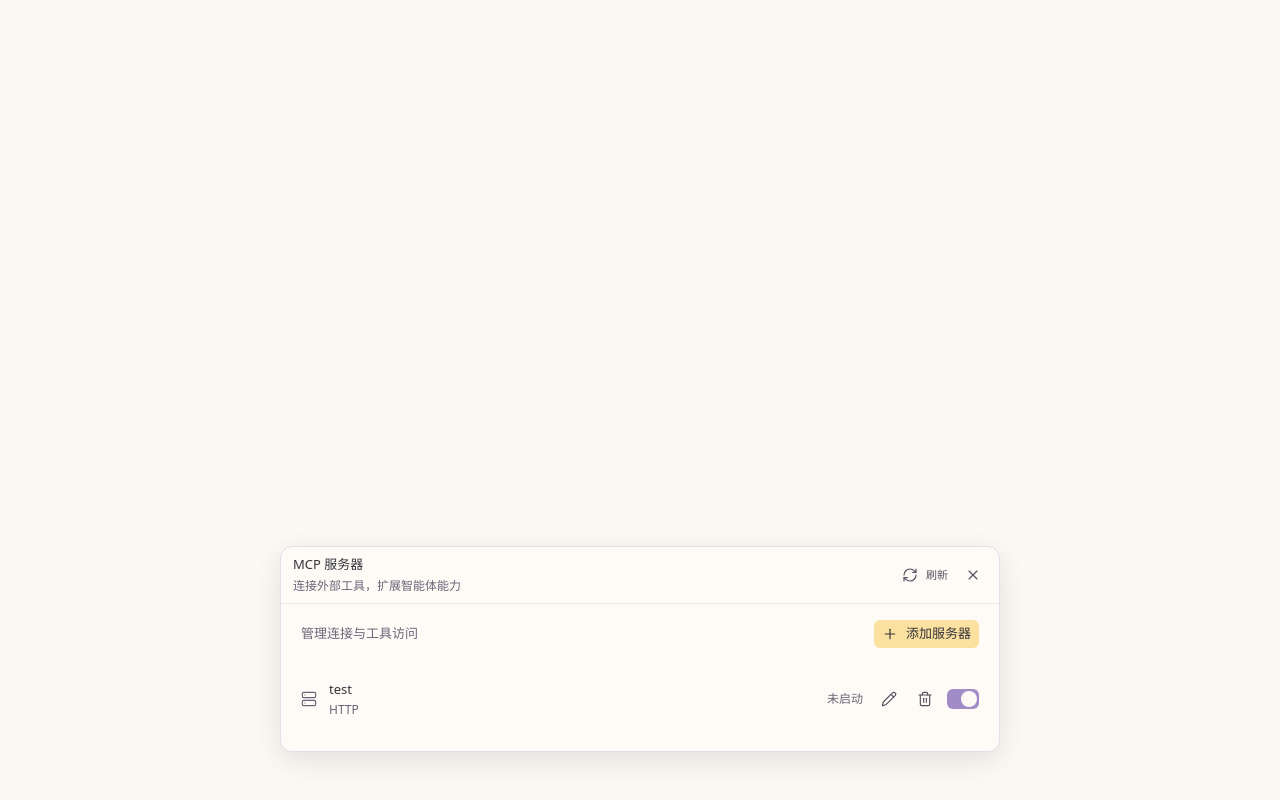
Test: MCP mutation boundaries › clears credentials even if the subsequent reload fails
Step 1. Click the button named "删除 test" → (925, 699), box 911,685 -> 939,713
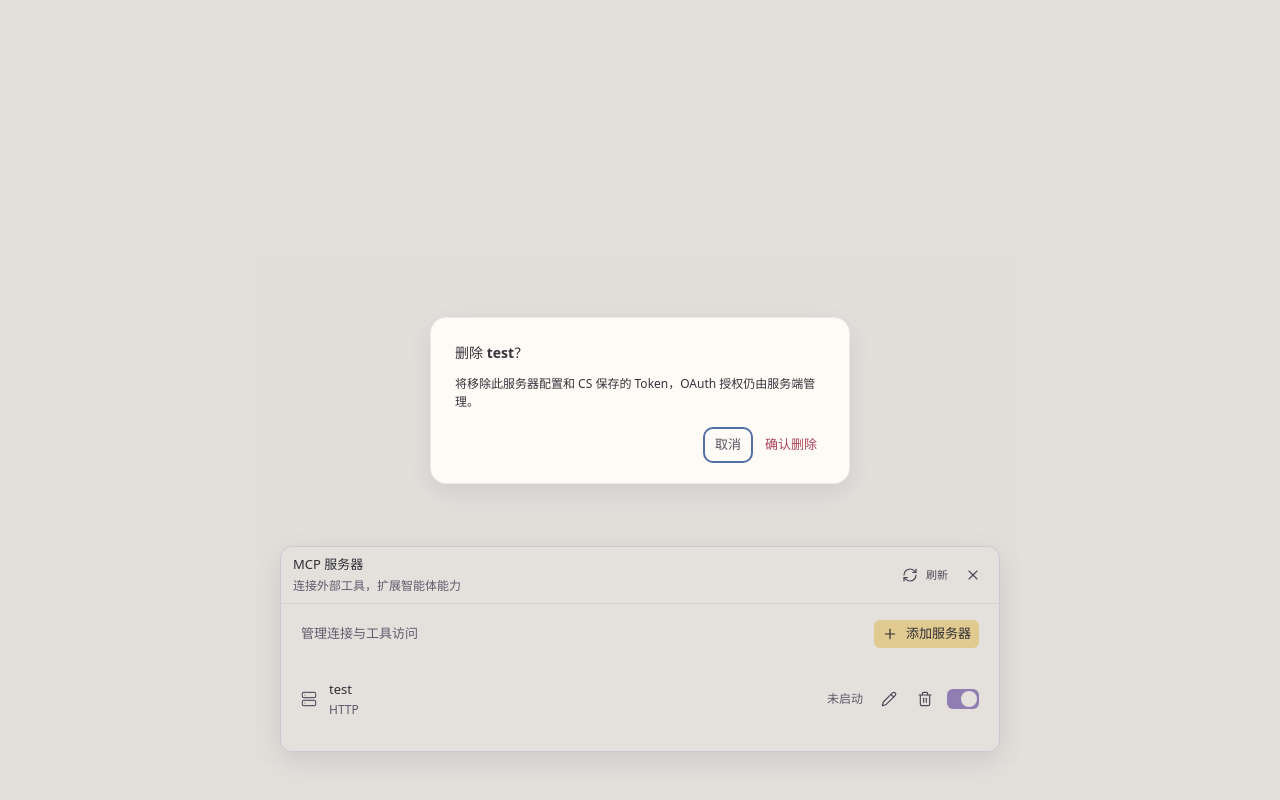
Step 2. Click the button "确认删除" → (791, 444), box 757,430 -> 825,458
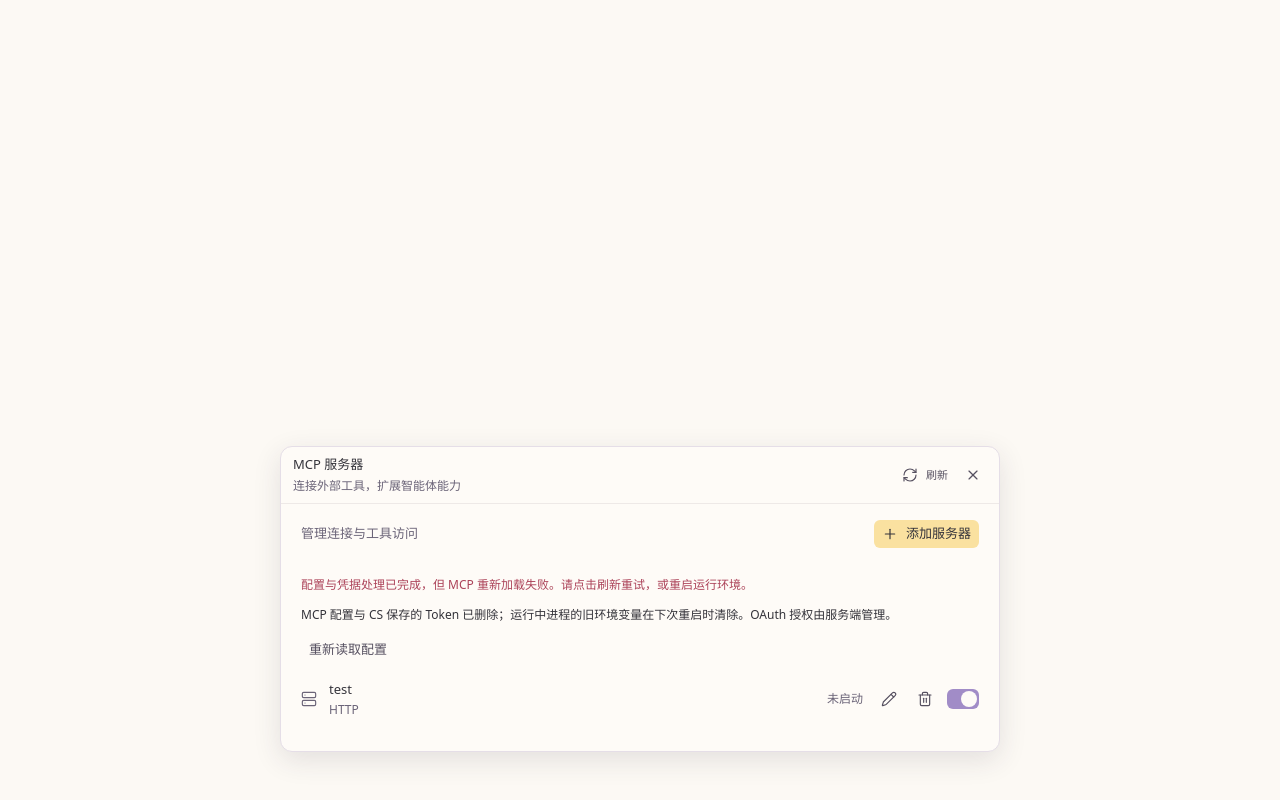
Result: the message "配置与凭据处理已完成，但 MCP 重新加载失败。请点击刷新重试，或重启运行环境。" is shown at 301,576 -> 753,592
